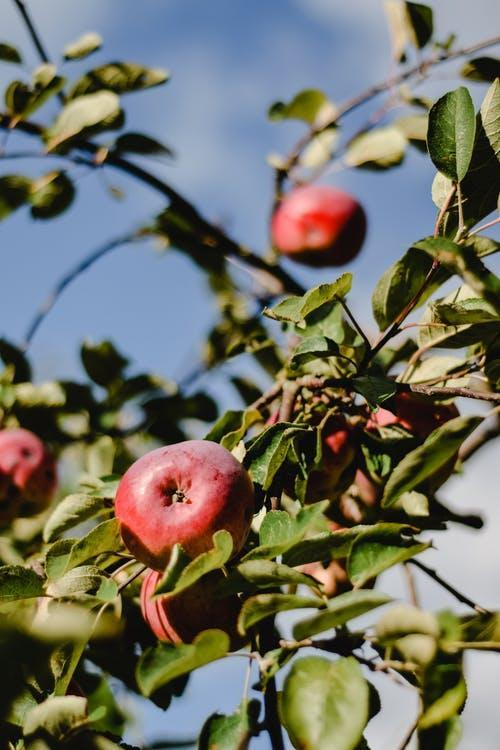apple: (115, 435, 254, 578)
